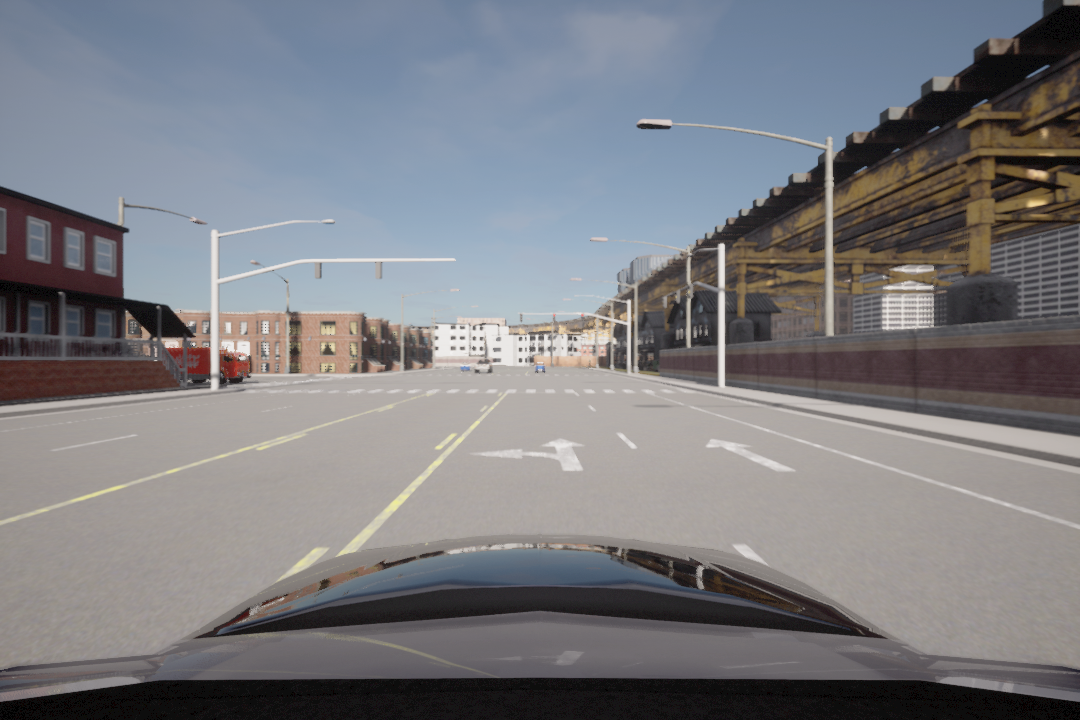RoadSign_forward: (698, 429, 798, 486)
RoadSign_forward_left: (469, 434, 589, 482)
walkside: (247, 386, 700, 399)
